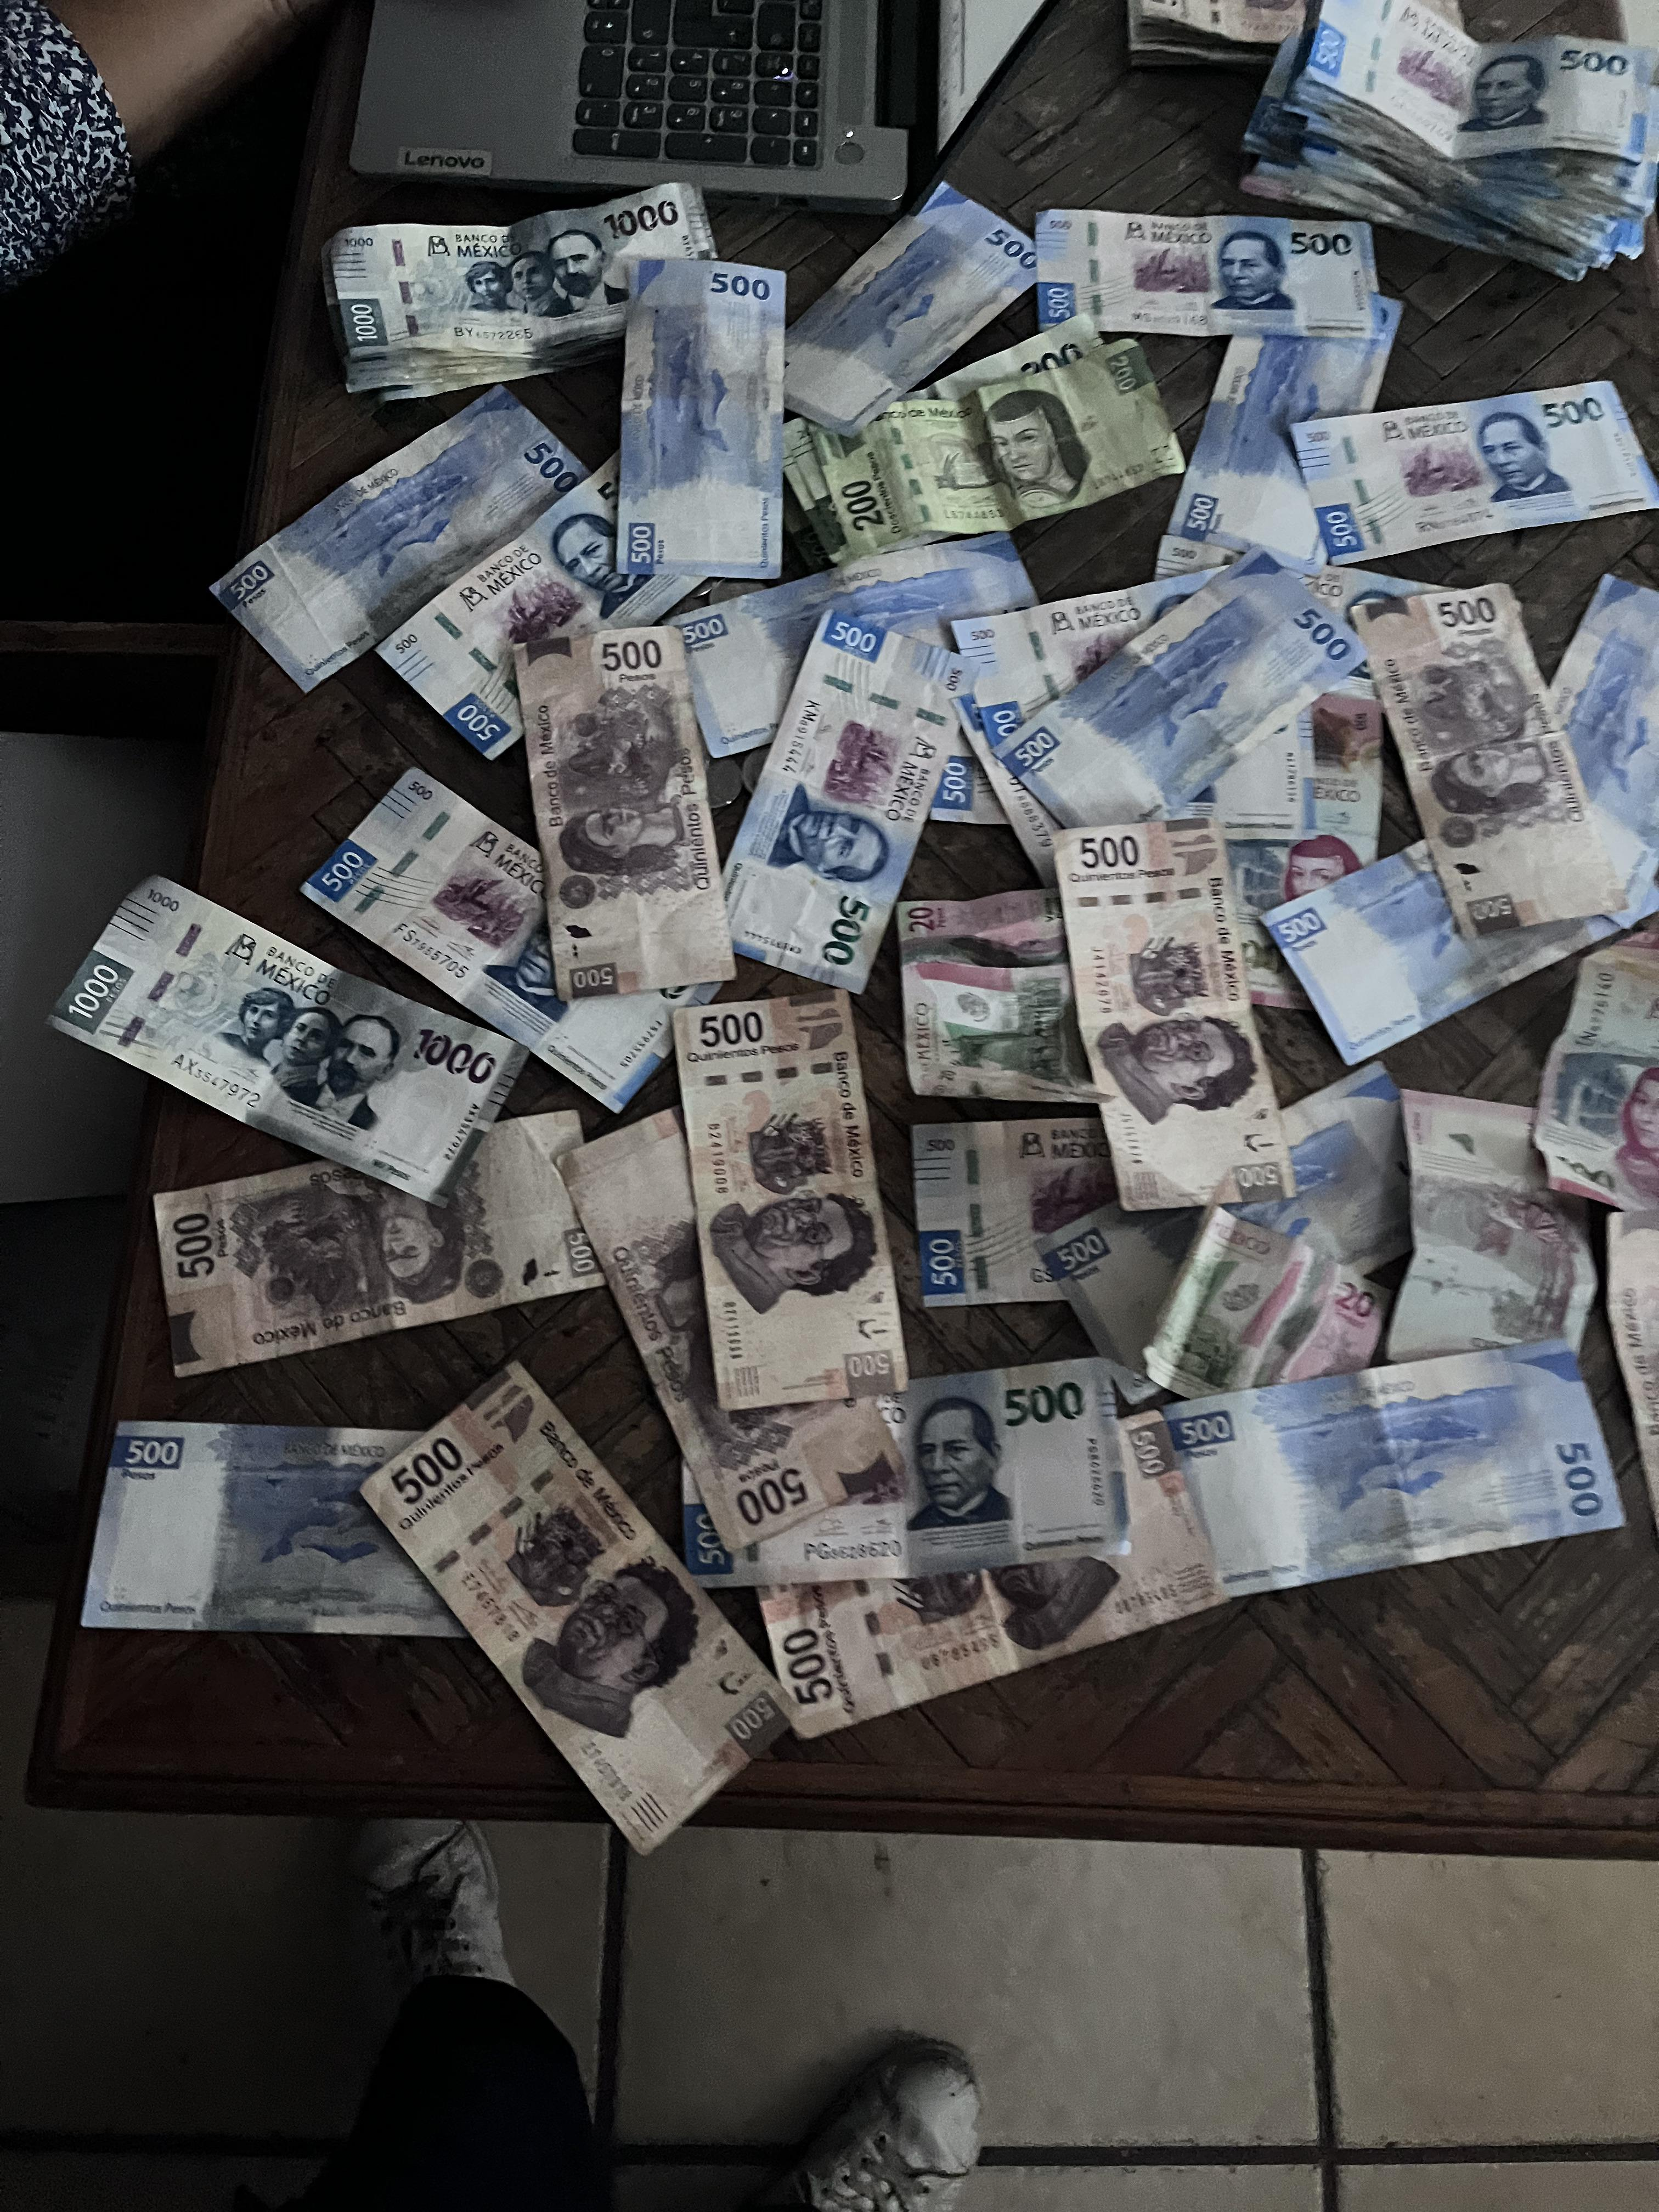100: (1370, 1097, 1603, 1421), (1553, 894, 1659, 1233)
1000: (45, 867, 523, 1195), (305, 178, 751, 394)
20: (1122, 1186, 1413, 1407)
200: (798, 338, 1183, 580)
500: (349, 1332, 802, 1879), (542, 1090, 939, 1564), (760, 1383, 1225, 1770), (98, 1099, 655, 1392), (1047, 803, 1328, 1251), (660, 974, 922, 1421), (1345, 570, 1635, 949), (511, 606, 742, 1000), (1124, 0, 1462, 80)
500 nuevo: (636, 1336, 1197, 1608), (68, 1392, 575, 1672), (305, 772, 723, 1097), (225, 387, 619, 704), (359, 448, 735, 763), (1115, 1348, 1614, 1576), (725, 596, 983, 1003), (1256, 834, 1659, 1090), (636, 512, 1058, 749), (1011, 557, 1352, 833), (1180, 233, 1406, 583), (592, 235, 814, 585), (782, 153, 1042, 427), (1265, 385, 1659, 561), (889, 1111, 1183, 1305), (1262, 14, 1659, 155), (1016, 188, 1382, 340), (1474, 564, 1659, 860)
